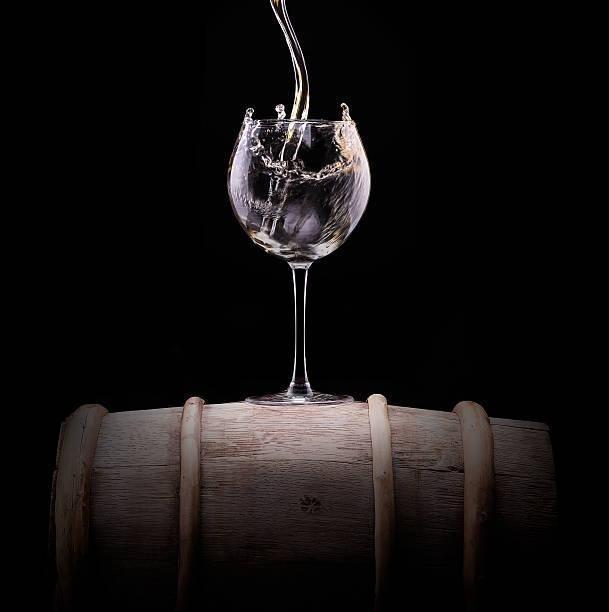glass-wine: (225, 117, 371, 411)
